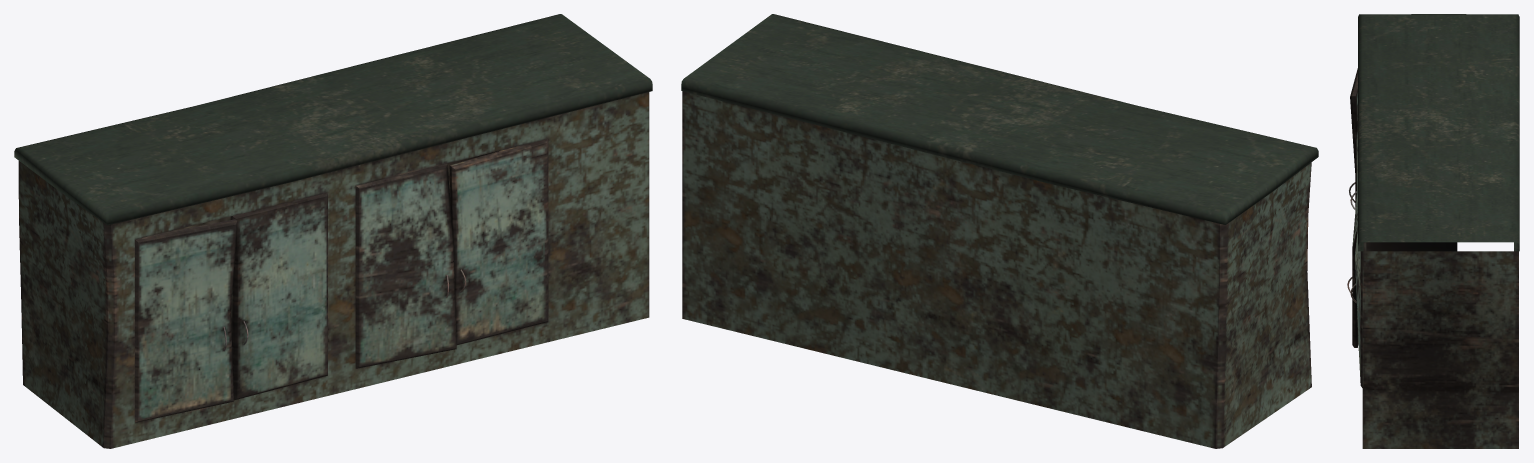
The model's file is DoubleStorage.FBX.
3 renders of one model, left to right at view 1: azimuth 30°, elevation 25°; view 2: azimuth 150°, elevation 25°; view 3: azimuth 270°, elevation 25°, orthographic. The views are drawn at different scales.
Parts seen in each view (by area): view 1: DoubleStorage, DoubleDoor_03, DoubleDoor_01, DoubleDoor_04, DoubleDoor_02; view 2: DoubleStorage; view 3: DoubleStorage, DoubleDoor_04, DoubleDoor_03, DoubleDoor_01.
Part boxes in pixels (box(x1,y1,x2,y2)): DoubleStorage: box(14, 14, 652, 448); DoubleDoor_03: box(355, 163, 456, 368); DoubleDoor_01: box(135, 219, 237, 422); DoubleDoor_04: box(449, 139, 548, 344); DoubleDoor_02: box(230, 193, 327, 400); DoubleStorage: box(681, 14, 1318, 448); DoubleStorage: box(1358, 14, 1519, 448); DoubleDoor_04: box(1350, 227, 1366, 387); DoubleDoor_03: box(1347, 183, 1358, 347); DoubleDoor_01: box(1349, 68, 1357, 207).
Bounding box in the file's own units: 248 × 104 × 78.2.
